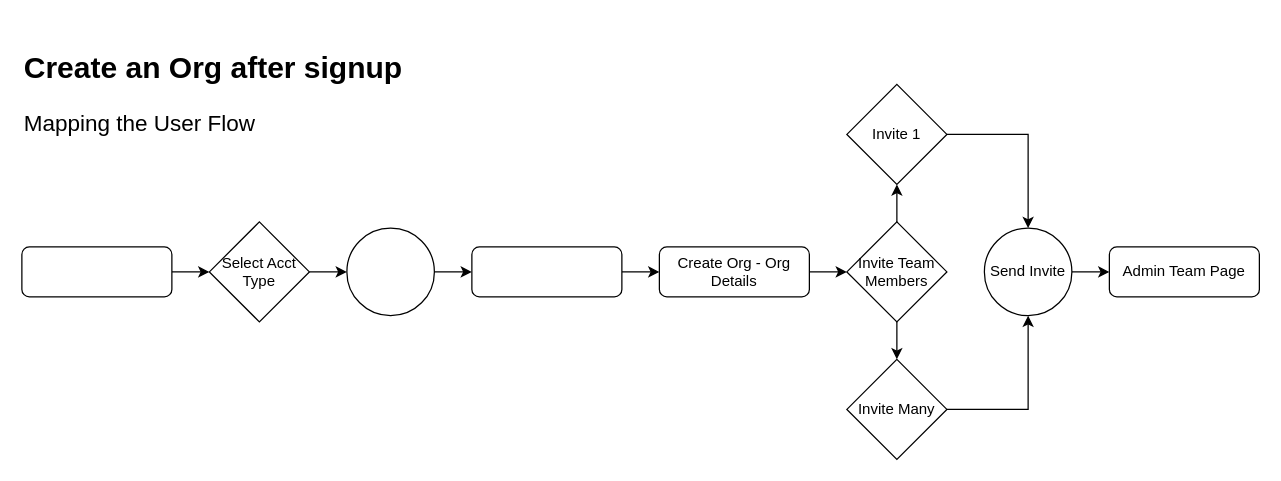
Some shapes in this 1281 by 481 pixel diagram are drawn without their labels. The shapes that lost their labels are listed below. From the top down, each one's box as (x1, y1, x2, y2) in pixels, then its label:
(21, 246, 172, 297): Sign Up
(346, 227, 434, 316): Verify Email
(471, 246, 622, 297): Welcome Page
